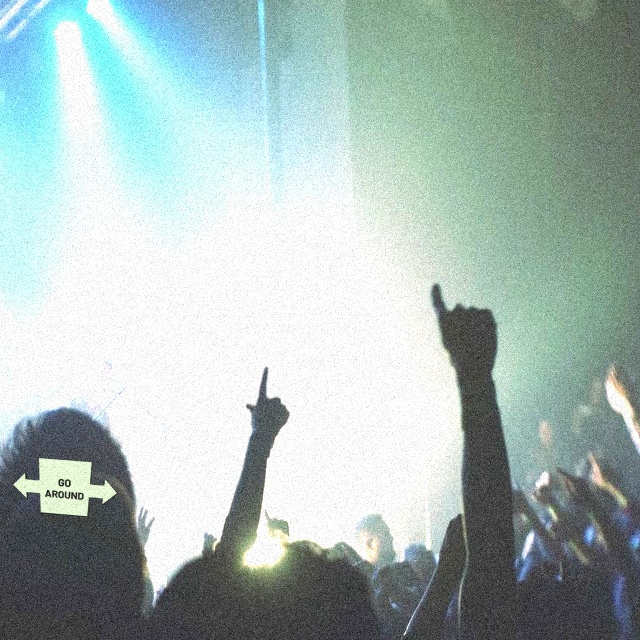GO_AROUND: (12, 457, 118, 517)
